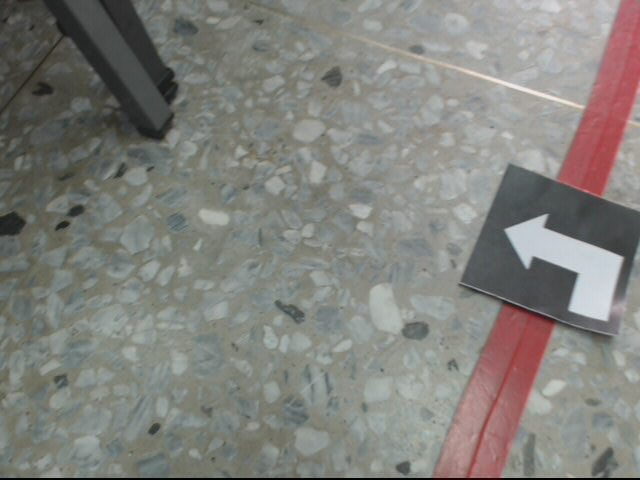left: (458, 164, 639, 339)
